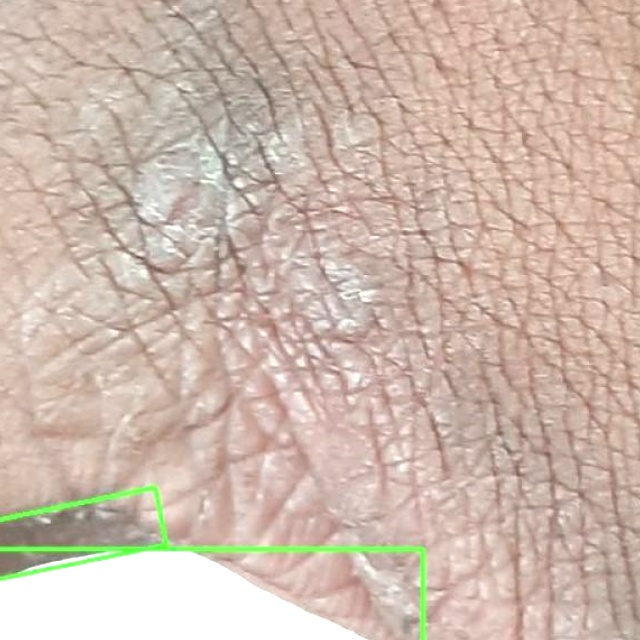Scabies: (0, 548, 422, 639), (0, 488, 168, 581)
